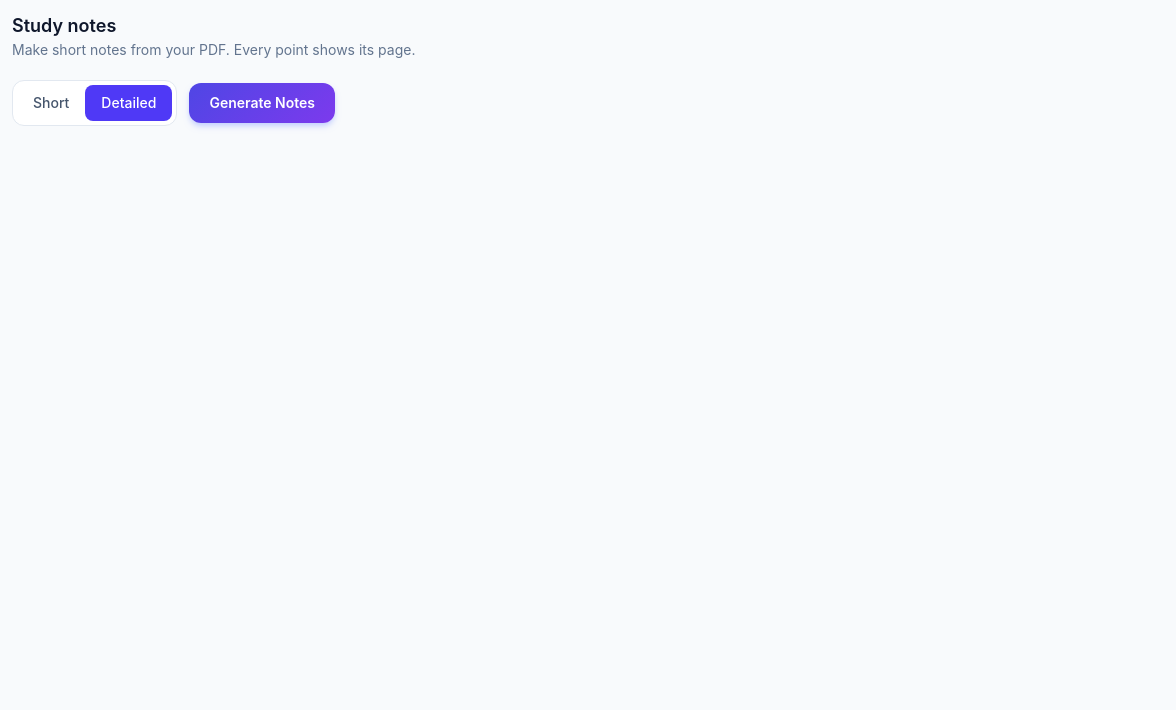
Test: NotesPanel (simplified) › saves an edited overview and title
Click the button "Generate Notes" at (262, 103), box [189,83,335,123]
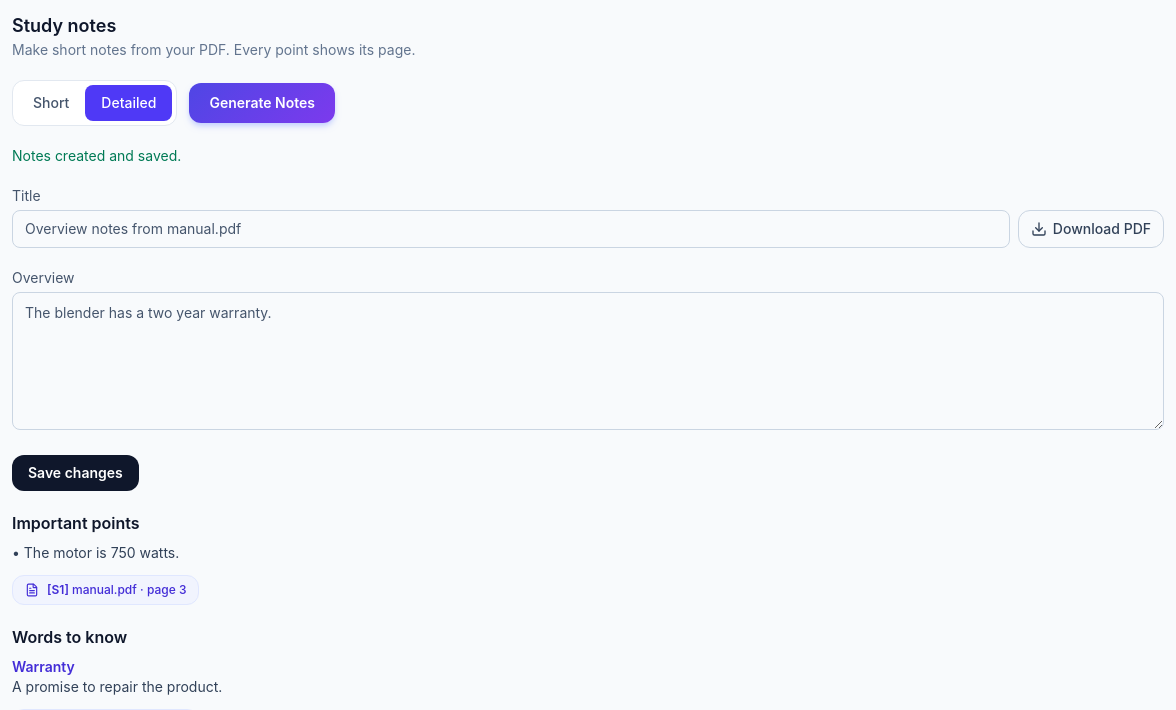
Replace the text in the field named "Notes title" with "My notes" at (511, 229), box [12,210,1010,248]
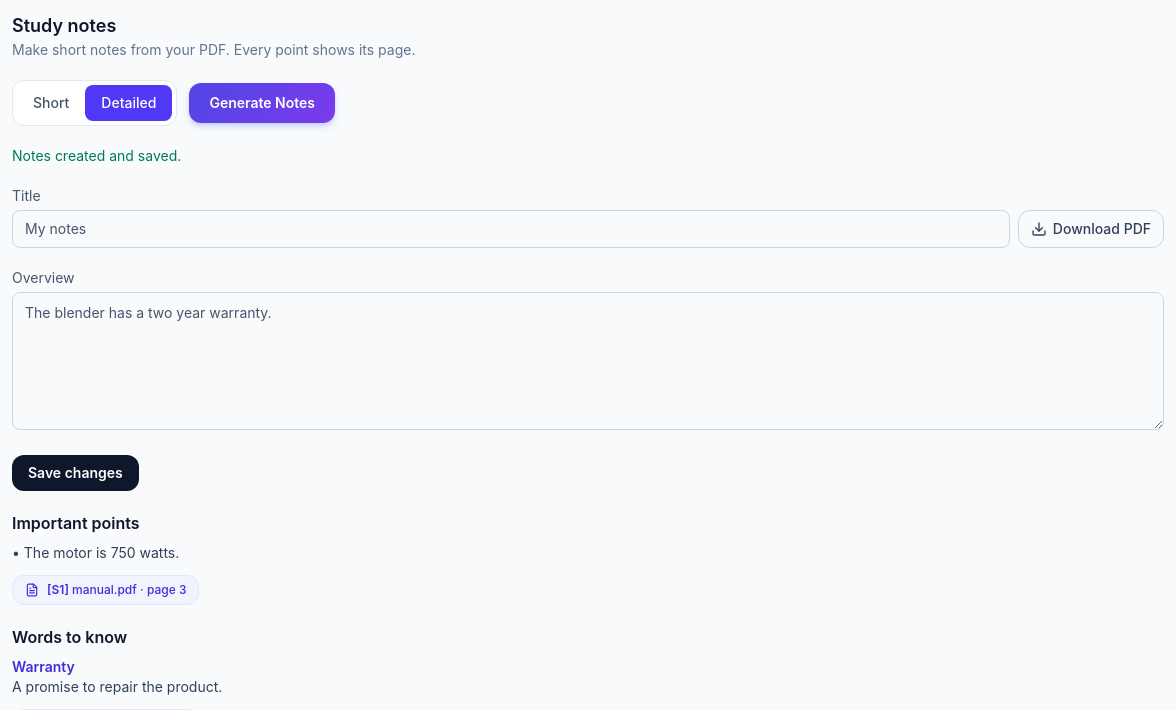
Click the button "Save changes" at (75, 473), box [12,455,139,491]
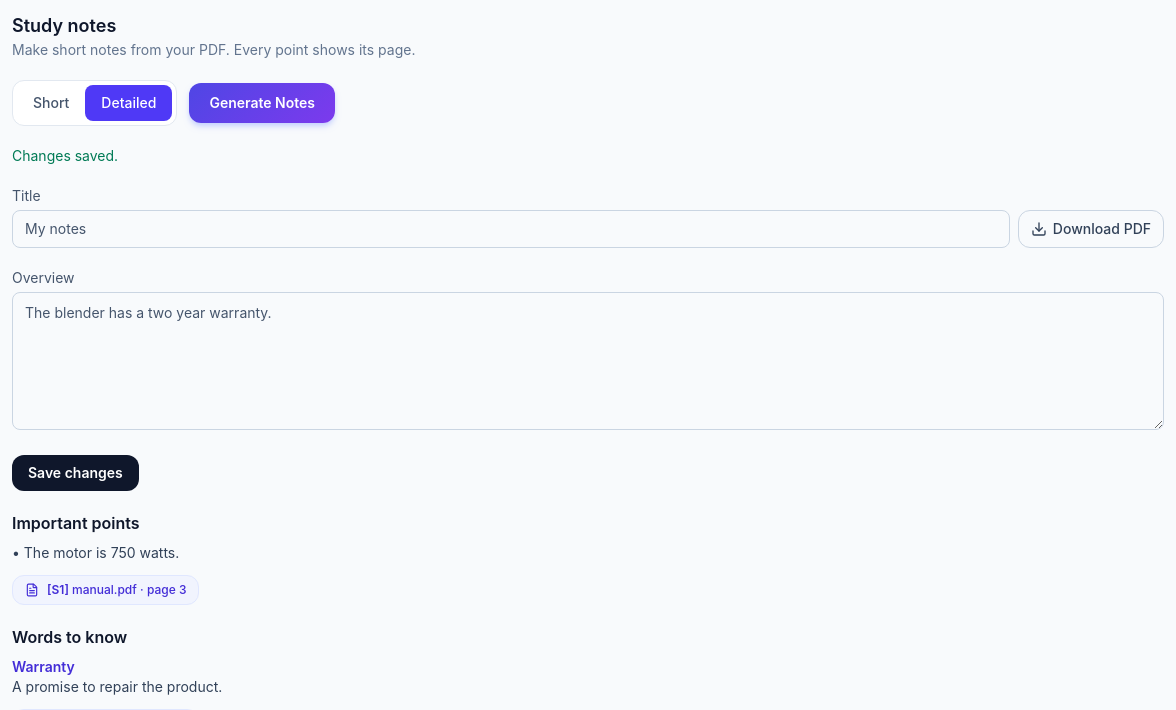
Expected: the text "Changes saved." is shown, [12,147,118,164]
